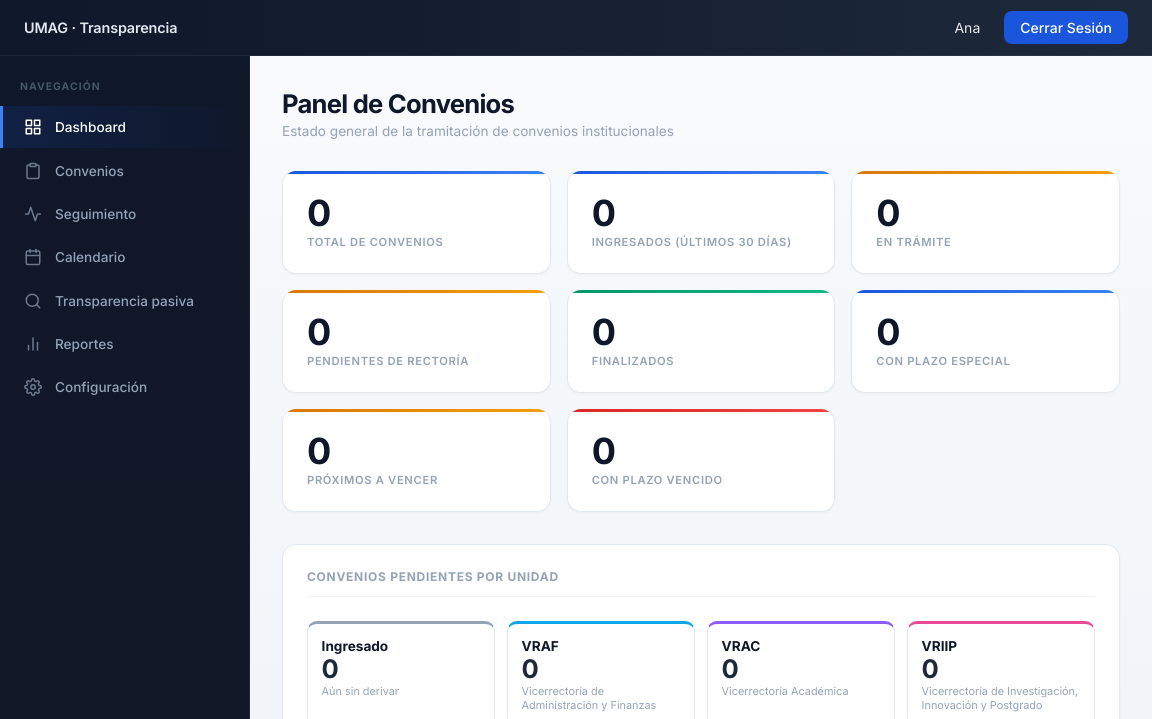
Test: borrar todos los convenios › el convenio que la planilla no borró sigue en pantalla
The image size is (1152, 719).
Click the text "Configuración". click: [86, 387]
box: [24,378,147,396]
(page scrolled)
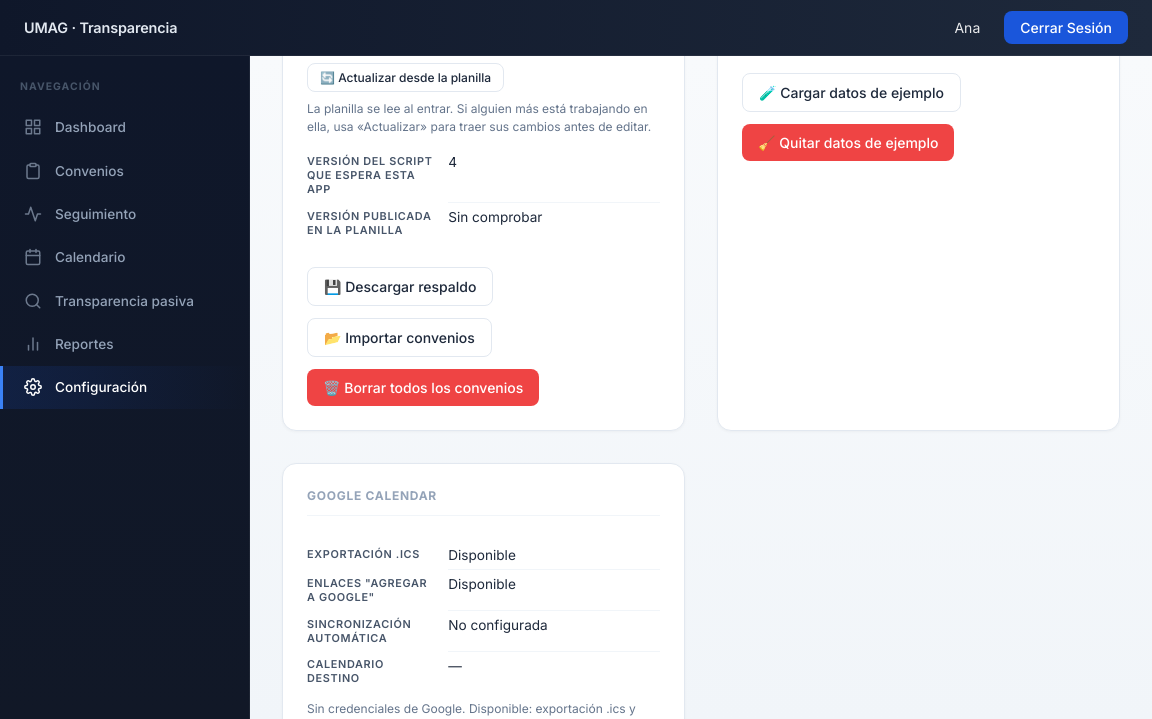
Click the button "🗑️ Borrar todos los convenios". click: [423, 388]
box: [307,369,539,406]
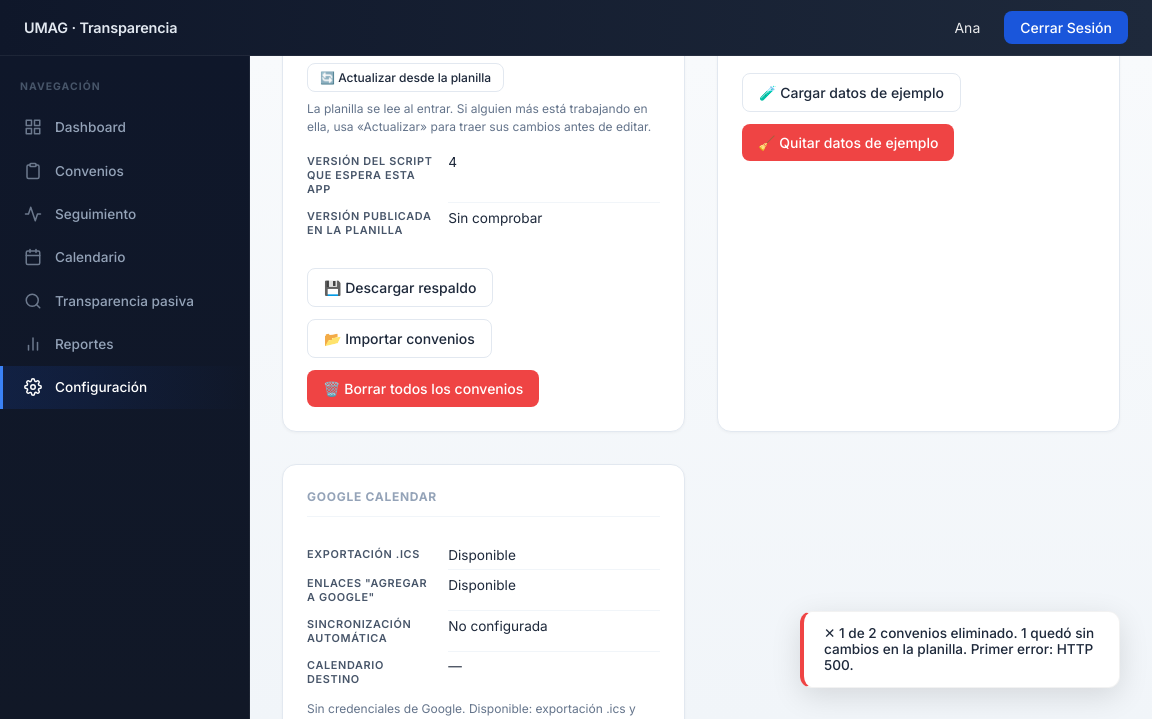
Result: the text "quedó sin cambios en la planilla" is shown at [824,625,1094,673]
